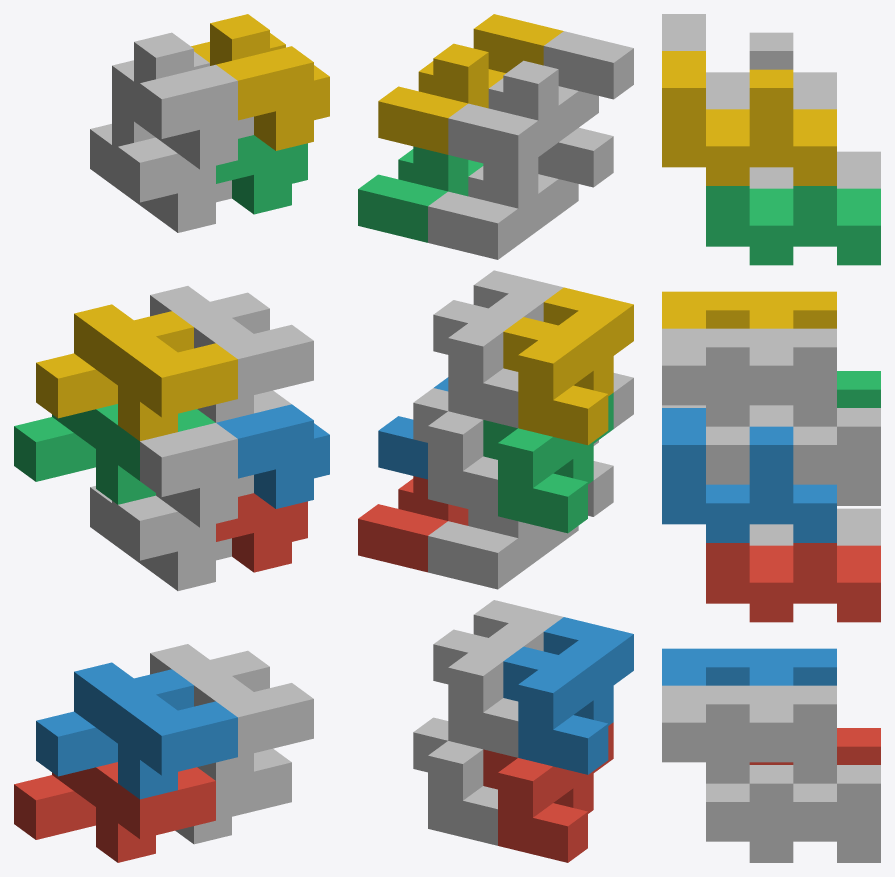
Rendered from tiling.obj.
3 views of the same model, side by side, from view 1: azimuth 30°, elevation 25°; view 2: azimuth 150°, elevation 25°; view 3: azimuth 270°, elevation 25° (orthographic). The views are drawn at different scales.
Visible parts, largest first — view 1: copy_1_domain_2, copy_1_domain_4, copy_2_domain_4, copy_1_domain_1, copy_2_domain_8, copy_1_domain_8, copy_1_domain_6, copy_2_domain_3, copy_1_domain_3, copy_2_domain_2, copy_2_domain_1, copy_2_domain_6 (+3 smaller); view 2: copy_2_domain_4, copy_1_domain_2, copy_1_domain_4, copy_2_domain_3, copy_1_domain_8, copy_1_domain_6, copy_2_domain_8, copy_1_domain_3, copy_1_domain_1, copy_2_domain_1, copy_1_domain_5, copy_1_domain_7 (+4 smaller); view 3: copy_2_domain_8, copy_1_domain_6, copy_1_domain_8, copy_2_domain_6, copy_1_domain_5, copy_2_domain_5, copy_2_domain_7, copy_1_domain_7, copy_2_domain_4, copy_1_domain_2, copy_1_domain_4, copy_2_domain_1 (+3 smaller).
Boxes of the visible parts, <box> form: copy_1_domain_2: <box>36,662,237,799</box>; copy_1_domain_4: <box>36,304,237,441</box>; copy_2_domain_4: <box>112,32,253,169</box>; copy_1_domain_1: <box>14,762,215,862</box>; copy_2_domain_8: <box>191,14,329,150</box>; copy_1_domain_8: <box>150,286,313,422</box>; copy_1_domain_6: <box>150,644,313,780</box>; copy_2_domain_3: <box>90,105,231,232</box>; copy_1_domain_3: <box>14,404,215,504</box>; copy_2_domain_2: <box>140,423,253,527</box>; copy_2_domain_1: <box>90,486,231,590</box>; copy_2_domain_6: <box>216,404,329,508</box>; copy_2_domain_4: <box>448,31,633,171</box>; copy_1_domain_2: <box>503,617,633,774</box>; copy_1_domain_4: <box>503,287,633,445</box>; copy_2_domain_3: <box>428,127,613,259</box>; copy_1_domain_8: <box>433,270,563,427</box>; copy_1_domain_6: <box>433,600,563,757</box>; copy_2_domain_8: <box>378,14,563,154</box>; copy_1_domain_3: <box>483,393,613,533</box>; copy_1_domain_1: <box>483,722,613,862</box>; copy_2_domain_1: <box>428,461,613,589</box>; copy_1_domain_5: <box>413,717,497,845</box>; copy_1_domain_7: <box>413,388,497,516</box>; copy_2_domain_8: <box>662,51,836,185</box>; copy_1_domain_6: <box>662,685,836,783</box>; copy_1_domain_8: <box>662,328,836,426</box>; copy_2_domain_6: <box>662,408,836,542</box>; copy_1_domain_5: <box>706,765,880,862</box>; copy_2_domain_5: <box>706,543,880,622</box>; copy_2_domain_7: <box>706,186,880,265</box>; copy_1_domain_7: <box>706,408,880,505</box>; copy_2_domain_4: <box>662,14,836,109</box>; copy_1_domain_2: <box>662,648,836,685</box>; copy_1_domain_4: <box>662,291,836,328</box>; copy_2_domain_1: <box>749,508,880,545</box>.
Size of the model in its own units: 6 by 20 by 5.
